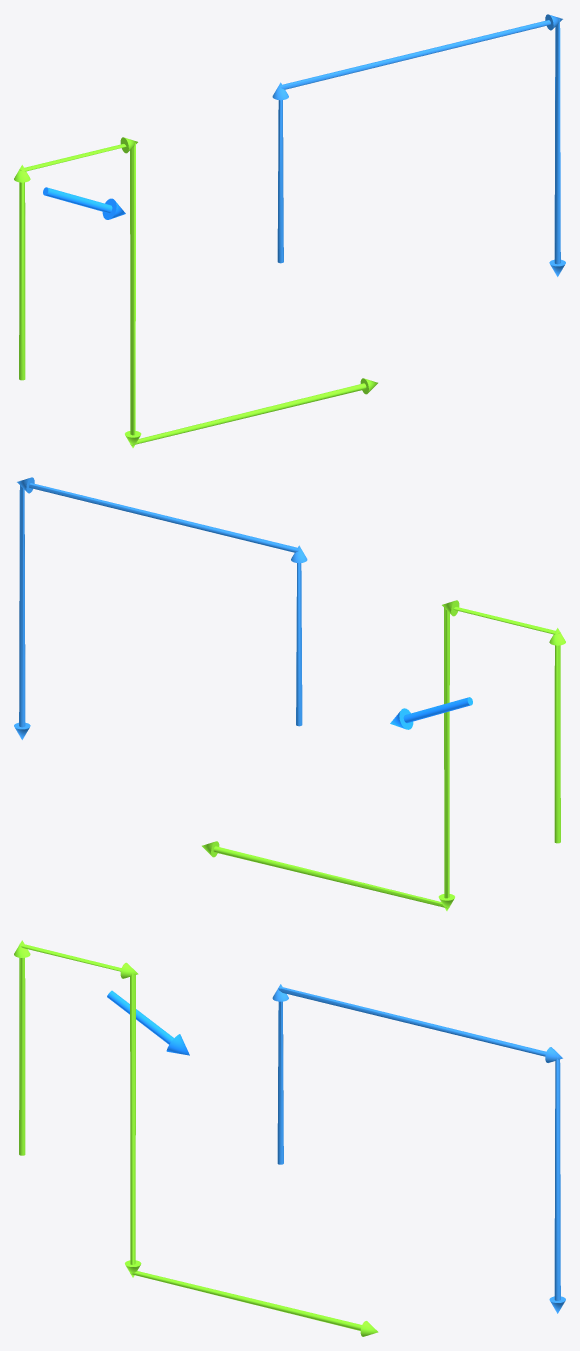
The model's file is microfiltration_system_flow.glb.
3 renders of one model, top to bottom at view 1: azimuth 30°, elevation 25°; view 2: azimuth 150°, elevation 25°; view 3: azimuth 330°, elevation 25°, orthographic.
Visible parts, largest first — view 1: air, permeate, feed; view 2: air, permeate, feed; view 3: air, permeate, feed.
Part boxes in pixels (x1=…): air: x1=14, y1=137, x2=377, y2=447; permeate: x1=272, y1=14, x2=565, y2=276; feed: x1=43, y1=187, x2=125, y2=219; air: x1=202, y1=600, x2=565, y2=910; permeate: x1=14, y1=477, x2=307, y2=739; feed: x1=390, y1=697, x2=472, y2=729; air: x1=14, y1=940, x2=378, y2=1336; permeate: x1=272, y1=984, x2=565, y2=1313; feed: x1=107, y1=990, x2=189, y2=1055.
Bounding box in the file's own units: 2.98 × 1.73 × 0.391.
